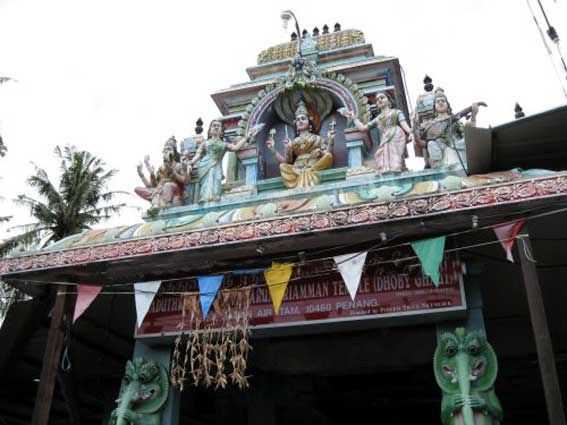Hindu Temple: (97, 29, 468, 293)
